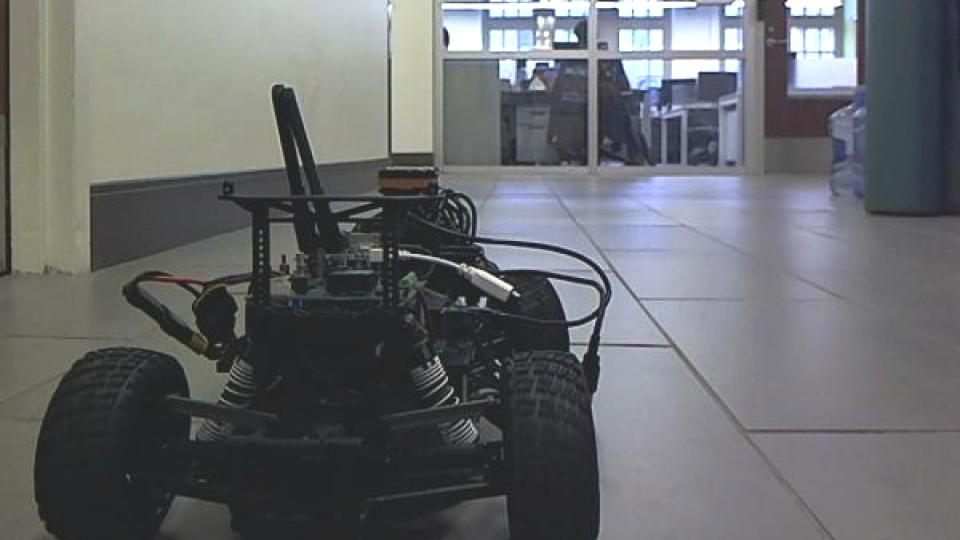car: (29, 80, 614, 540)
